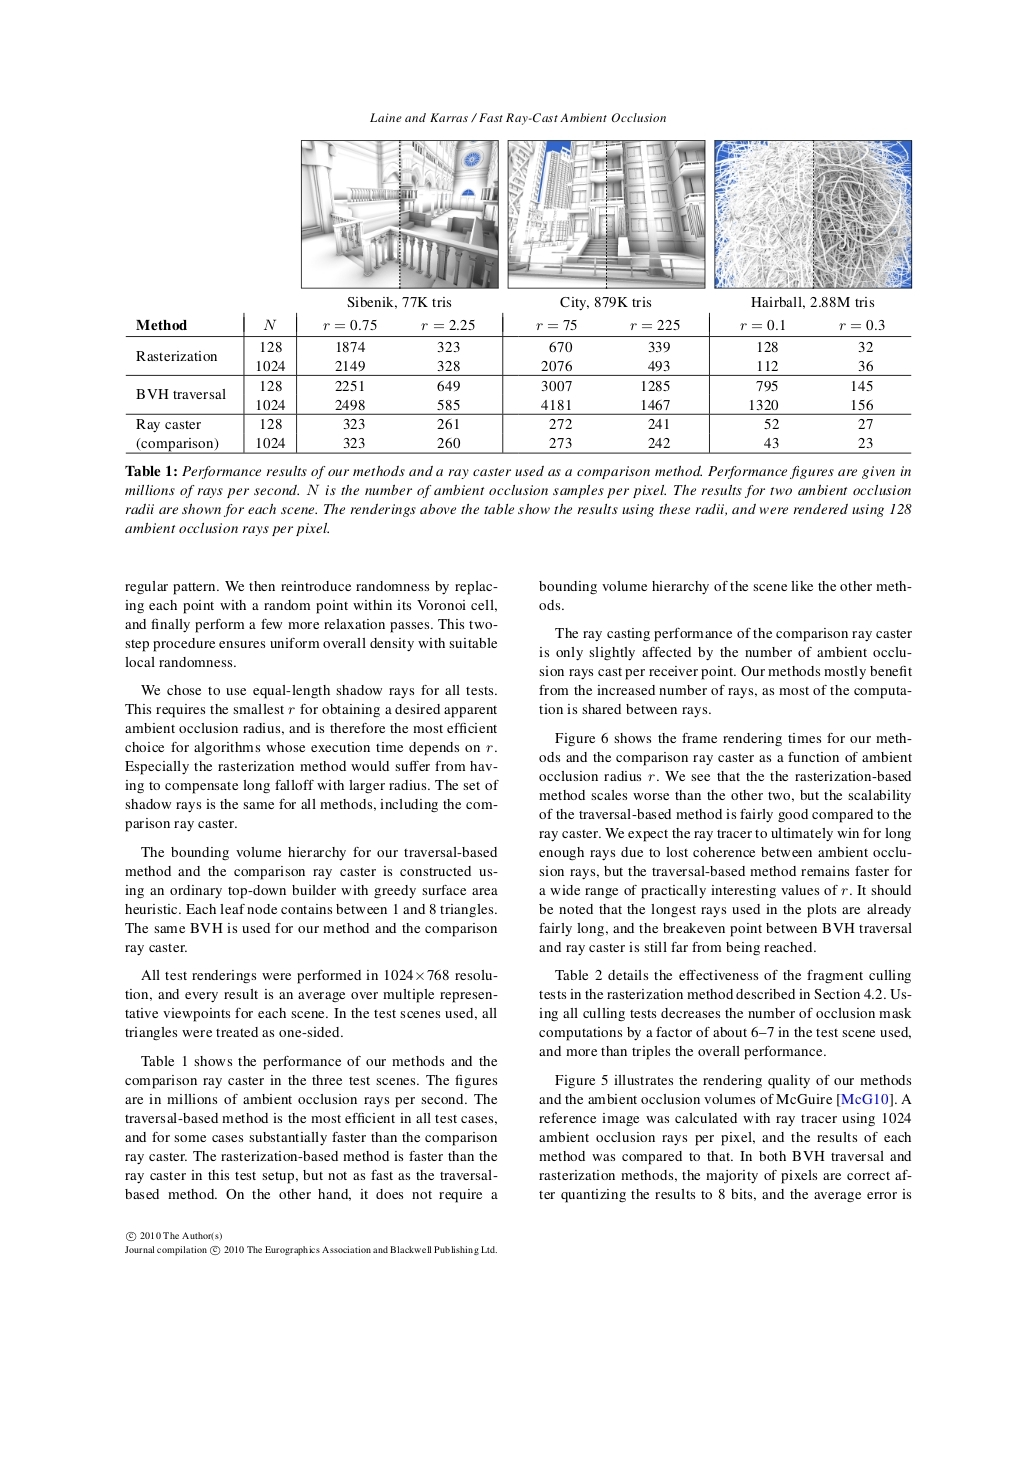Table: (125, 295, 911, 454)
figure: (714, 140, 912, 288), (300, 140, 498, 288), (507, 140, 705, 288)
